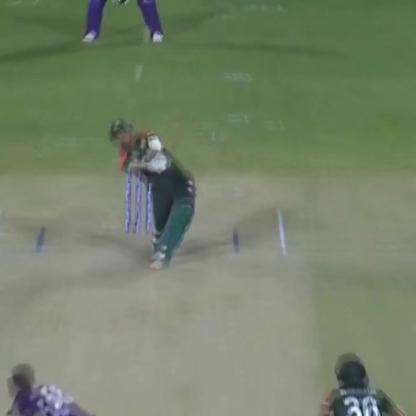ball: (128, 72, 146, 82), (134, 64, 142, 72)
bat: (110, 155, 168, 178)
pitch: (5, 198, 316, 416)
